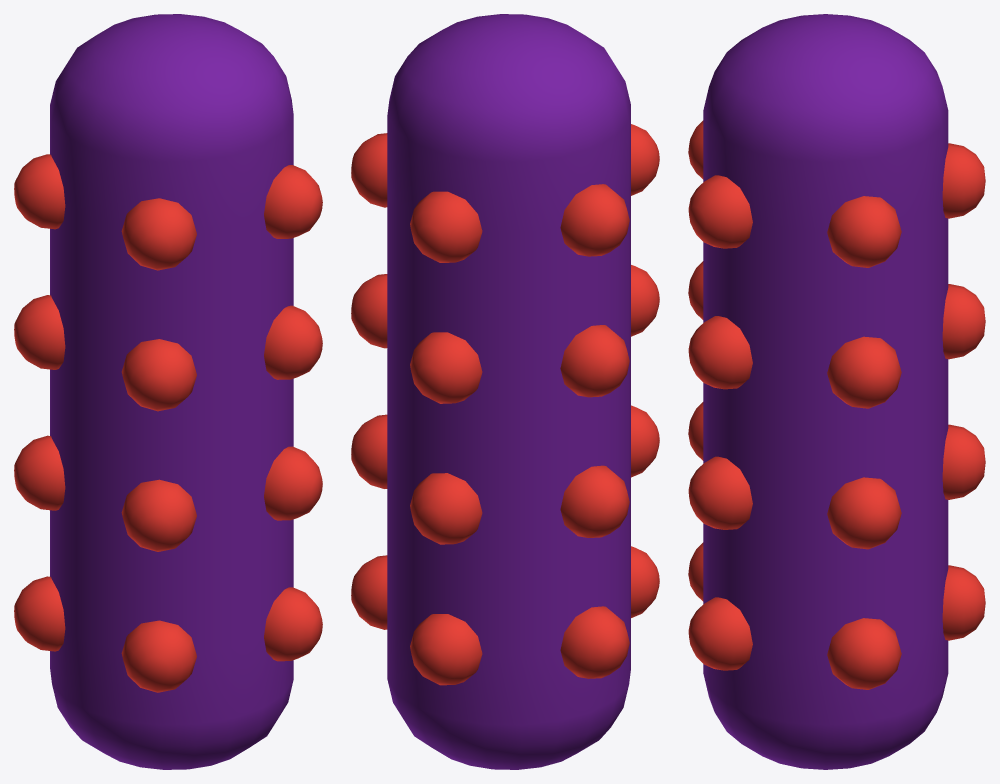
The model's file is PokemonMonster_Landing_Pillar.fbx.
3 renders of one model, left to right at view 1: azimuth 30°, elevation 25°; view 2: azimuth 150°, elevation 25°; view 3: azimuth 270°, elevation 25°, orthographic.
Visible parts, largest first — view 1: Pillar; view 2: Pillar; view 3: Pillar.
Boxes of the visible parts, bbox=[...] form: Pillar: bbox=[14, 14, 322, 769]; Pillar: bbox=[351, 14, 659, 769]; Pillar: bbox=[688, 14, 985, 769].
Size of the model in its own units: 102 by 263 by 97.85.
Materials: 1 (1 with a texture image).
